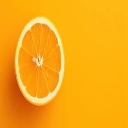orange: (14, 10, 66, 111)
